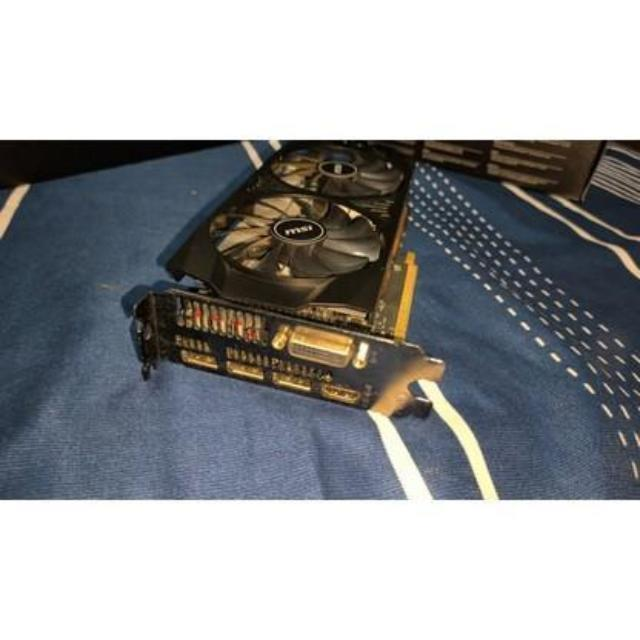GPU: (154, 130, 431, 408)
